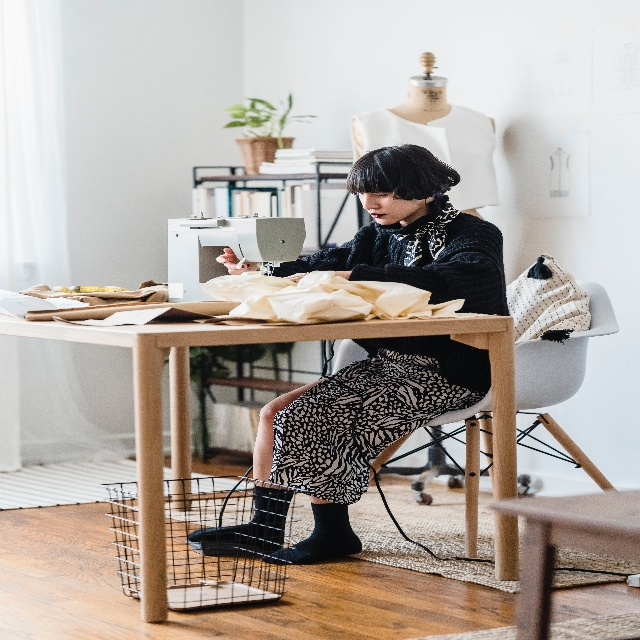Sin_guantes: (216, 248, 259, 275), (284, 273, 308, 284)
